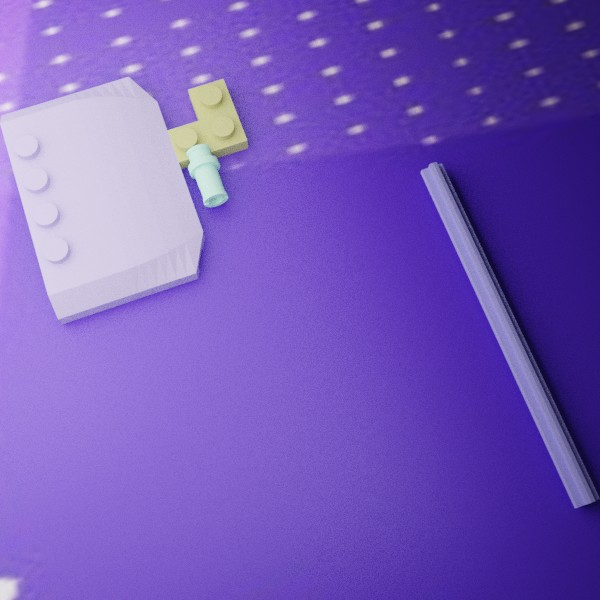lego: (420, 161, 600, 508), (0, 76, 204, 324), (162, 78, 248, 171), (186, 143, 228, 207)
